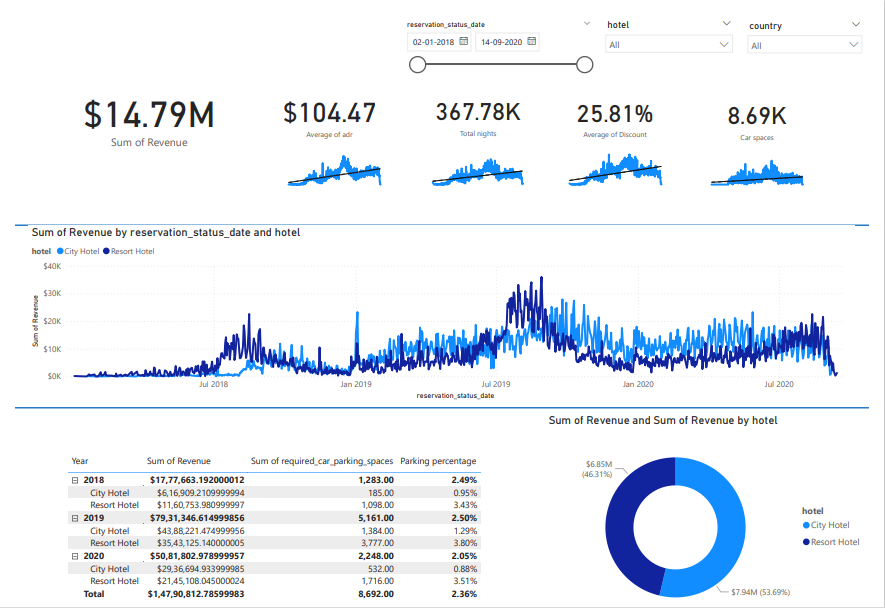

The dashboard page shown, as its layout file describes it:
{"tool":"powerbi","page":{"name":"Page 1","canvas":[1280,920],"ordinal":0},"visuals":[{"type":"shape","box":[0,580,1280,16.2],"z":0},{"type":"shape","box":[0,305.3,1280.2,17.3],"z":1000},{"type":"card","fields":{"Values":["Sum(Query1.Revenue)"]},"box":[72.2,80.6,258.7,139.4],"z":2000},{"type":"card","fields":{"Values":["Avg(Query1.adr)"]},"box":[394.8,105.8,152.9,84],"z":3000},{"type":"card","fields":{"Values":["Query1.Total nights"]},"box":[623.2,105.8,142.8,84],"z":4000},{"type":"card","fields":{"Values":["Avg(Query1.Discount)"]},"box":[829.8,110.9,139.4,79],"z":5000},{"type":"lineChart","fields":{"Category":["Query1.reservation_status_date"],"Y":["Sum(Query1.Revenue)"],"Series":["Query1.hotel"]},"box":[20,313.8,1238.8,266.2],"z":6000},{"type":"slicer","fields":{"Values":["Query1.country"]},"box":[1087.5,1.2,192.5,70],"z":7000},{"type":"slicer","fields":{"Values":["Query1.hotel"]},"box":[875,0,211.2,71.2],"z":8000},{"type":"lineChart","fields":{"Category":["Query1.reservation_status_date"],"Y":["Sum(Query1.adr)"]},"box":[395,190,167.5,68.8],"z":9000},{"type":"lineChart","fields":{"Category":["Query1.reservation_status_date"],"Y":["Query1.Total nights"]},"box":[611.2,190,165,68.8],"z":10000},{"type":"lineChart","fields":{"Category":["Query1.reservation_status_date"],"Y":["Sum(Query1.Discount)"]},"box":[816.2,190,167.5,68.8],"z":11000},{"type":"card","fields":{"Values":["Sum(Query1.required_car_parking_spaces)"]},"box":[1016.3,105.8,193.2,95.7],"z":12000},{"type":"lineChart","fields":{"Category":["Query1.reservation_status_date"],"Y":["Sum(Query1.required_car_parking_spaces)"]},"box":[1028.8,190,167.5,68.8],"z":13000},{"type":"donutChart","fields":{"Category":["Query1.hotel"],"Y":["Sum(Query1.Revenue)","Sum(Query1.Revenue)"]},"box":[795,596.2,485,323.8],"z":14000},{"type":"pivotTable","fields":{"Rows":["Query1.reservation_status_date.Variation.Date Hierarchy.Year","Query1.hotel"],"Values":["Sum(Query1.Revenue)","Sum(Query1.required_car_parking_spaces)","Query1.Parking percentage"]},"box":[75,652.5,640,250],"z":15000},{"type":"slicer","fields":{"Values":["Query1.reservation_status_date"]},"box":[575,1.2,300,105],"z":16000}]}

Visuals, with their boxes on the page's 1280x920 design canvas (x1, y1, x2, y2). These are canvas units, not pixel positions in the 885x608 screenshot, which may show the page scaled, cropped or inside an application window:
shape: box(0, 580, 1280, 596)
shape: box(0, 305, 1280, 323)
card - Sum(Query1.Revenue): box(72, 81, 331, 220)
card - Avg(Query1.adr): box(395, 106, 548, 190)
card - Query1.Total nights: box(623, 106, 766, 190)
card - Avg(Query1.Discount): box(830, 111, 969, 190)
lineChart - Query1.reservation_status_date x Sum(Query1.Revenue): box(20, 314, 1259, 580)
slicer - Query1.country: box(1088, 1, 1280, 71)
slicer - Query1.hotel: box(875, 0, 1086, 71)
lineChart - Query1.reservation_status_date x Sum(Query1.adr): box(395, 190, 562, 259)
lineChart - Query1.reservation_status_date x Query1.Total nights: box(611, 190, 776, 259)
lineChart - Query1.reservation_status_date x Sum(Query1.Discount): box(816, 190, 984, 259)
card - Sum(Query1.required_car_parking_spaces): box(1016, 106, 1210, 202)
lineChart - Query1.reservation_status_date x Sum(Query1.required_car_parking_spaces): box(1029, 190, 1196, 259)
donutChart - Query1.hotel x Sum(Query1.Revenue): box(795, 596, 1280, 920)
pivotTable - Query1.reservation_status_date.Variation.Date Hierarchy.Year x Query1.hotel: box(75, 652, 715, 902)
slicer - Query1.reservation_status_date: box(575, 1, 875, 106)
